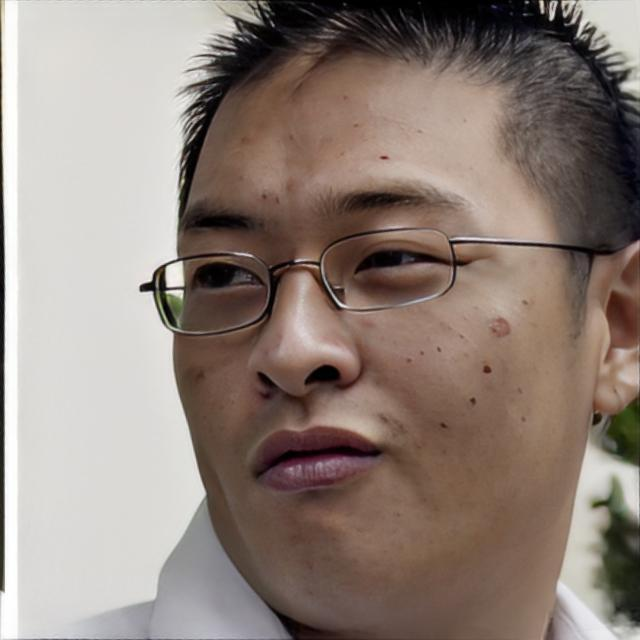disgust: (172, 30, 594, 632)
